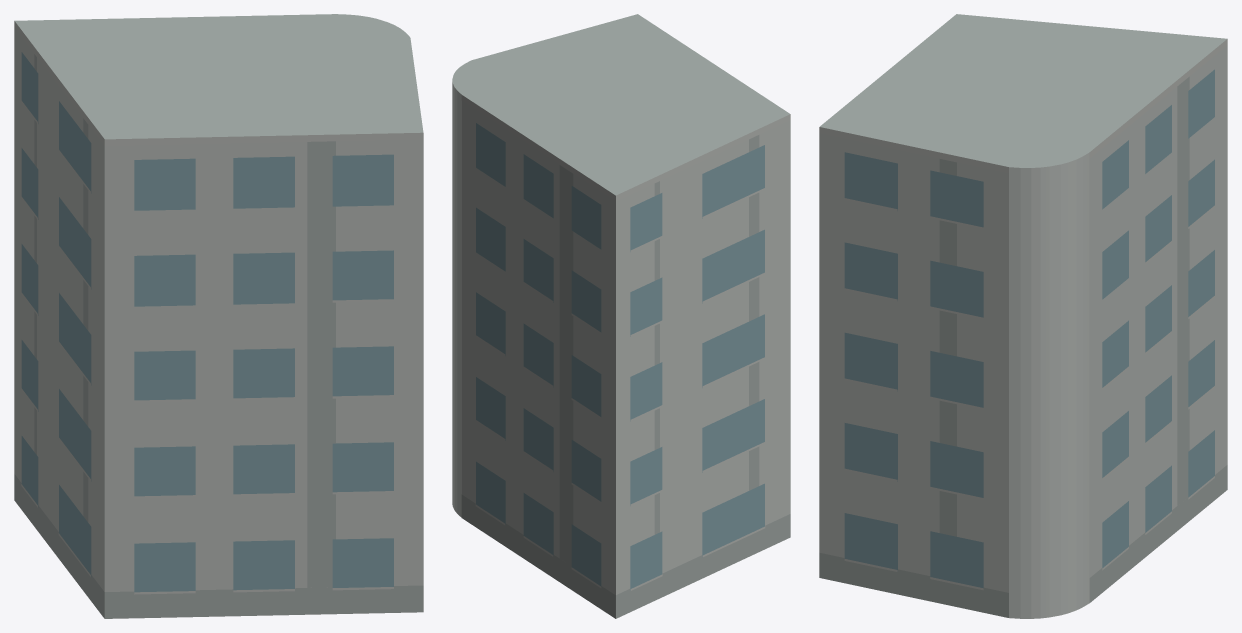
The model's file is survey-upis-32886034.glb.
The picture shows the model from 3 angles, left to right: view 1: azimuth 30°, elevation 25°; view 2: azimuth 150°, elevation 25°; view 3: azimuth 270°, elevation 25°; orthographic projection. The views are drawn at different scales.
Parts seen in each view (by area): view 1: survey-upis-32886034.tmp; view 2: survey-upis-32886034.tmp; view 3: survey-upis-32886034.tmp.
Part boxes in pixels (x1=…): survey-upis-32886034.tmp: x1=14, y1=14, x2=423, y2=618; survey-upis-32886034.tmp: x1=452, y1=14, x2=790, y2=618; survey-upis-32886034.tmp: x1=819, y1=14, x2=1227, y2=618.
Size of the model in its own units: 12.67 by 17.3 by 14.2.
